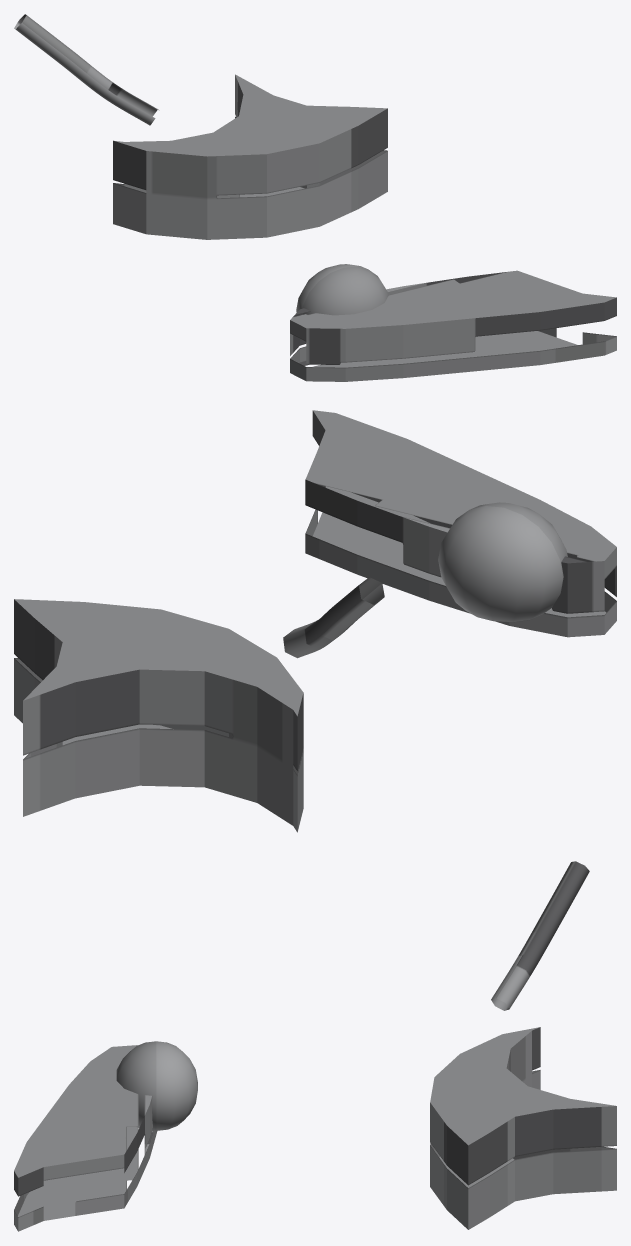
The picture shows the model from 3 angles, top to bottom: view 1: azimuth 30°, elevation 25°; view 2: azimuth 150°, elevation 25°; view 3: azimuth 270°, elevation 25°; orthographic projection. The views are drawn at different scales.
Size of the model in its own units: 0.8288 by 0.5171 by 1.31.
